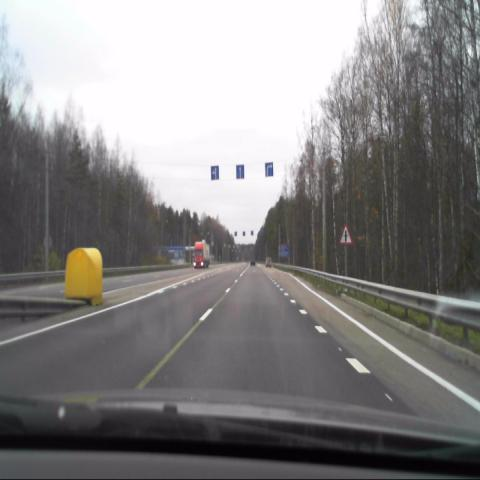2_3: (340, 225, 352, 243)
